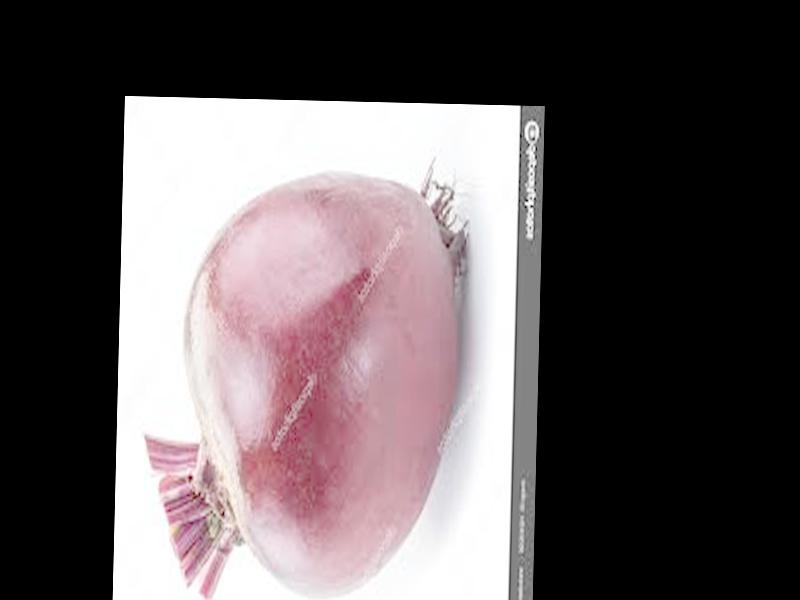Beet: (144, 169, 464, 600)
